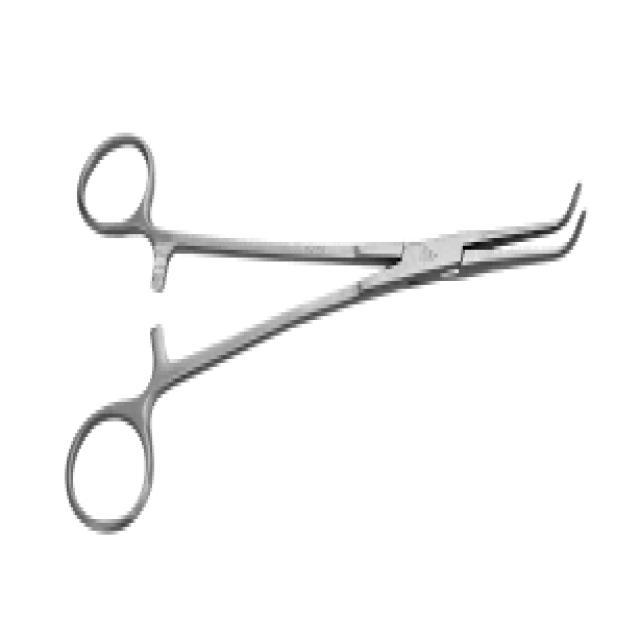Rectangle Cholecystectomy Forceps: (61, 109, 588, 546)
